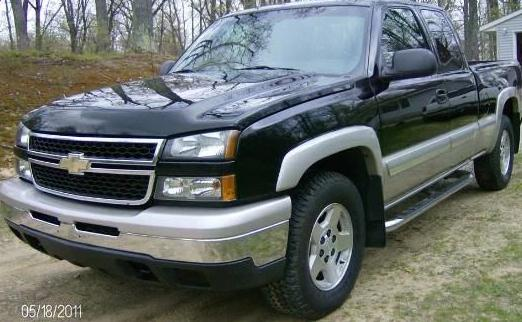front_view: (6, 116, 256, 278)
headlight: (158, 123, 245, 208)
side_glass: (373, 4, 464, 73)
